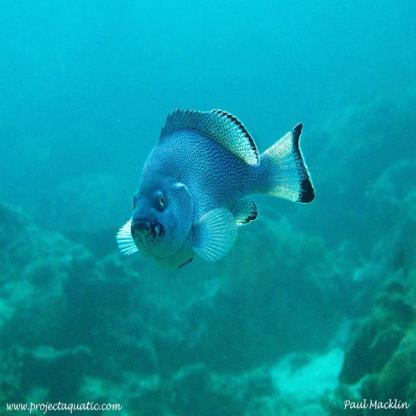Serranidae -Groupers-: (113, 106, 320, 274)
